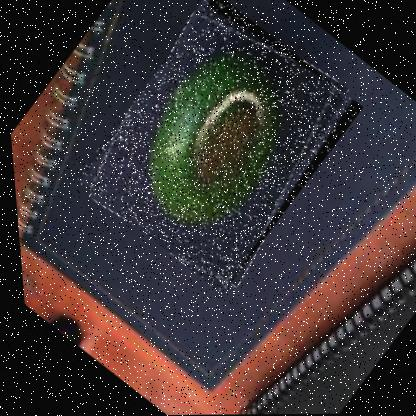orange_rotten: (59, 0, 374, 295)
